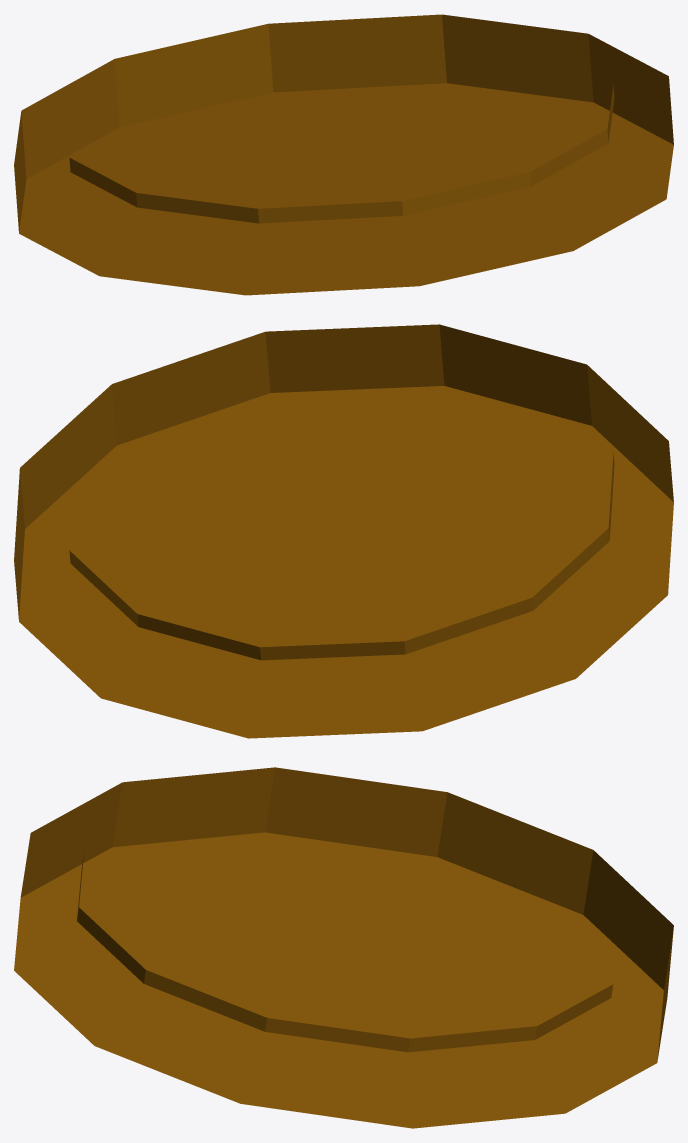
Rendered from cash-coin.glb.
3 views of the same model, one above another, from view 1: azimuth 30°, elevation 25°; view 2: azimuth 150°, elevation 25°; view 3: azimuth 270°, elevation 25° (orthographic).
Visible parts, largest first — view 1: CashCoin; view 2: CashCoin; view 3: CashCoin.
Part boxes in pixels (box(x1,y1,x2,y2)): CashCoin: box(14, 14, 673, 295); CashCoin: box(14, 324, 673, 738); CashCoin: box(14, 767, 673, 1128).
Size of the model in its own units: 0.2535 by 0.063 by 0.255.
